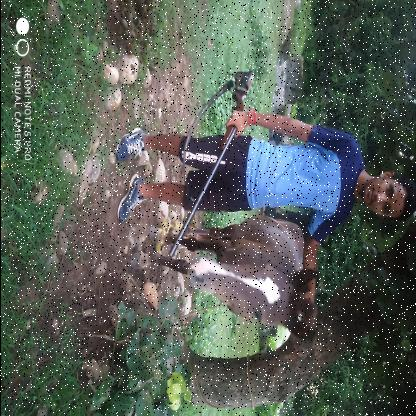rifle: (166, 69, 254, 261)
